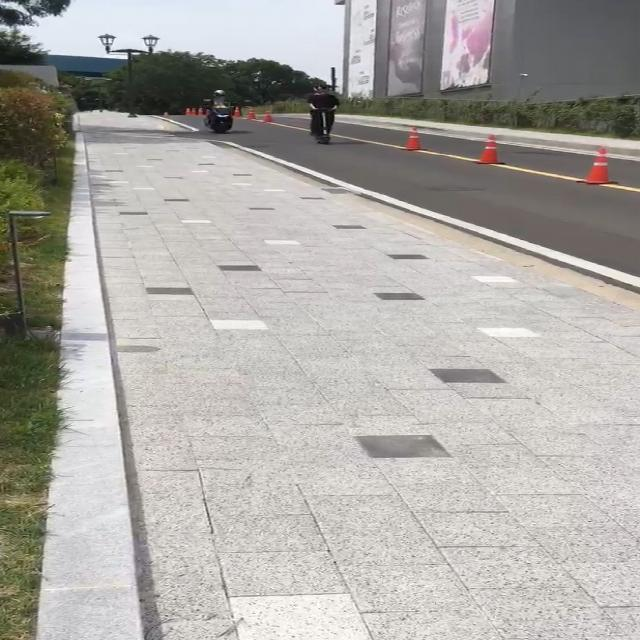obstacle: (298, 81, 345, 149), (193, 83, 248, 138), (573, 142, 629, 189), (464, 131, 515, 166), (395, 121, 431, 154)
sidewalk: (44, 135, 640, 640), (355, 117, 640, 152), (68, 114, 184, 134)
